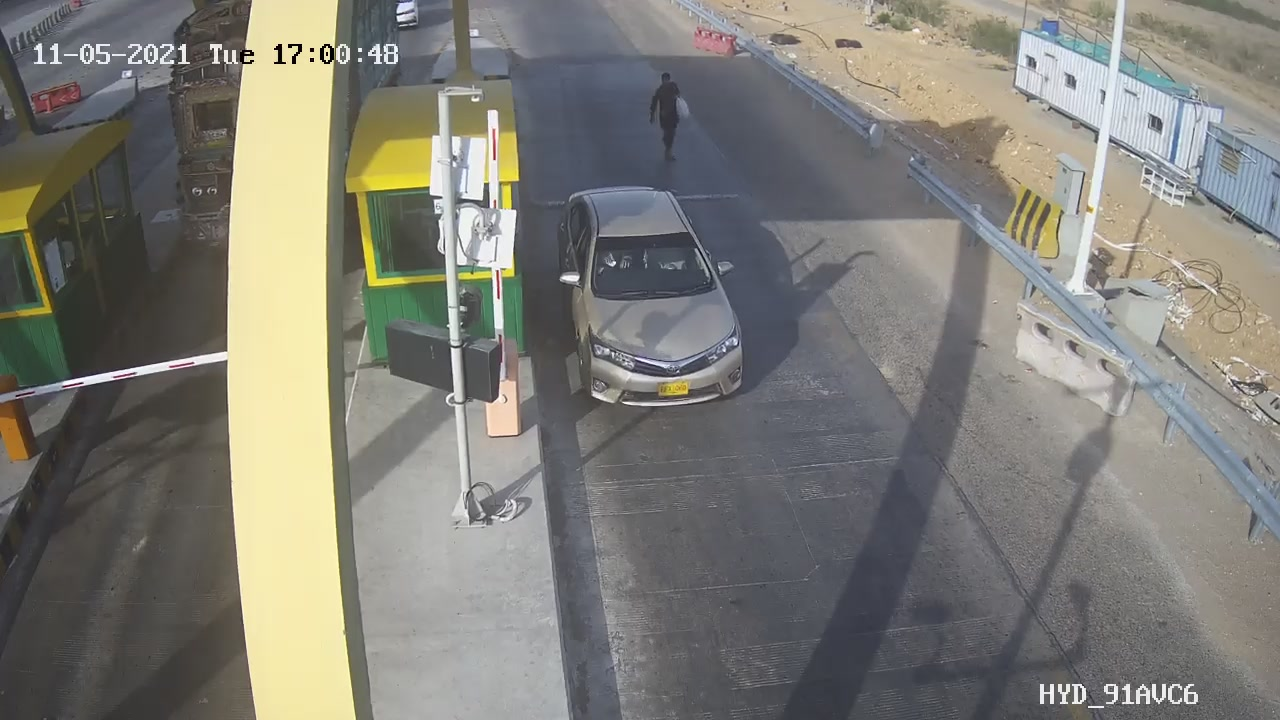F1: (534, 170, 773, 434)
